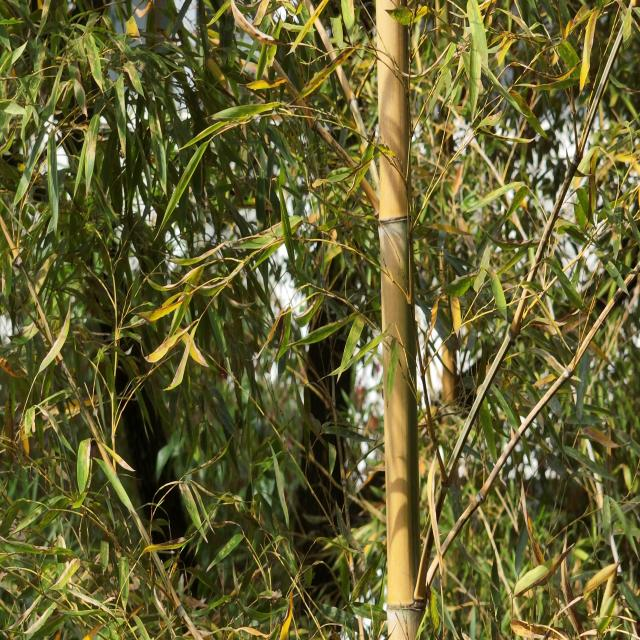Bamboo-shoots: (377, 0, 425, 640)
